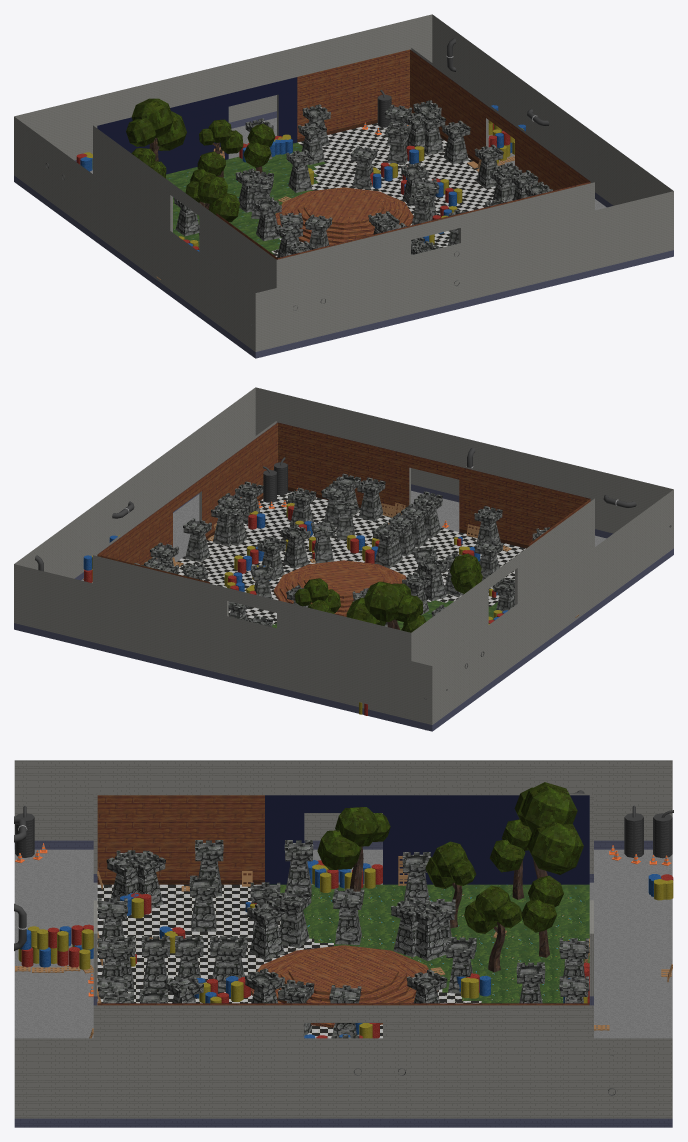
File: map 1.fbx
3 views of the same model, one above another, from view 1: azimuth 30°, elevation 25°; view 2: azimuth 150°, elevation 25°; view 3: azimuth 270°, elevation 25° (orthographic). The views are drawn at different scales.
Visible parts, largest first — view 1: Plane.005, Plane.001, Cube, Plane, Plane.003, Plane.010, Cylinder.001, tower2.006, tower2.003, Plane.002, tower2.005, tower2.001 (+5 smaller); view 2: Plane.005, Plane.001, Plane, Plane.010, tower2.006, Cube, tower2.003, Cylinder.001, tower2.005, tower2.004, tower2.001, tower2 (+5 smaller); view 3: Plane.005, Plane.009, Cube, Plane.003, Plane.001, Plane.002, Plane.010, Plane, tower2.006, tower2.003, Cylinder.001, tower2.001 (+13 smaller).
Boxes of the visible parts, box(x1,y1,x2,y2) form: Plane.005: box(14, 14, 673, 351); Plane.001: box(216, 49, 590, 259); Cube: box(126, 98, 275, 222); Plane: box(271, 123, 495, 256); Plane.003: box(97, 77, 297, 174); Plane.010: box(14, 111, 673, 358); Cylinder.001: box(275, 187, 413, 245); tower2.006: box(199, 104, 538, 252); tower2.003: box(247, 149, 435, 240); Plane.002: box(166, 142, 325, 253); tower2.005: box(287, 111, 518, 254); tower2.001: box(249, 146, 439, 248); Plane.005: box(14, 387, 673, 724); Plane.001: box(97, 422, 590, 583); Plane: box(176, 490, 525, 624); Plane.010: box(14, 484, 673, 731); tower2.006: box(150, 477, 514, 626); Cube: box(294, 553, 482, 632); tower2.003: box(257, 521, 430, 615); Cylinder.001: box(273, 560, 406, 616); tower2.005: box(144, 483, 503, 620); tower2.004: box(151, 494, 445, 616); tower2.001: box(251, 473, 437, 626); tower2: box(183, 498, 544, 596); Plane.005: box(14, 760, 672, 1118); Plane.009: box(14, 849, 672, 1038); Cube: box(317, 782, 583, 972); Plane.003: box(265, 795, 589, 884); Plane.001: box(97, 795, 589, 1005); Plane.002: box(269, 884, 589, 1003); Plane.010: box(14, 840, 672, 1127); Plane: box(97, 884, 481, 1038); tower2.006: box(98, 840, 589, 1038); tower2.003: box(217, 888, 476, 1036); Cylinder.001: box(251, 945, 437, 1027); tower2.001: box(104, 897, 447, 1035).
Size of the model in its own units: 3354 by 711 by 3353.
19 materials, 15 textured.
